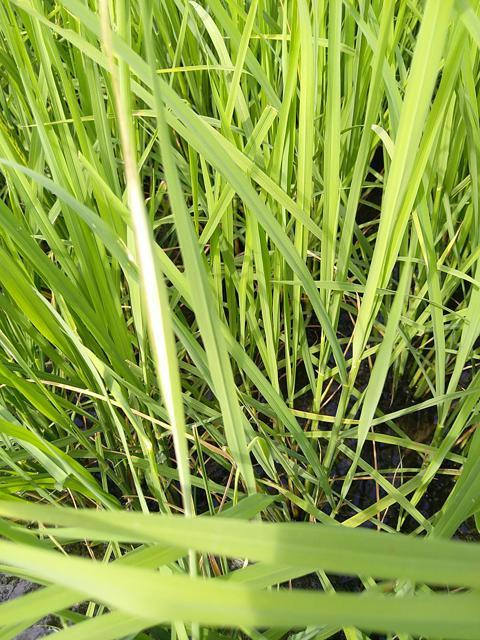Leaf Blight: (98, 0, 193, 518)
